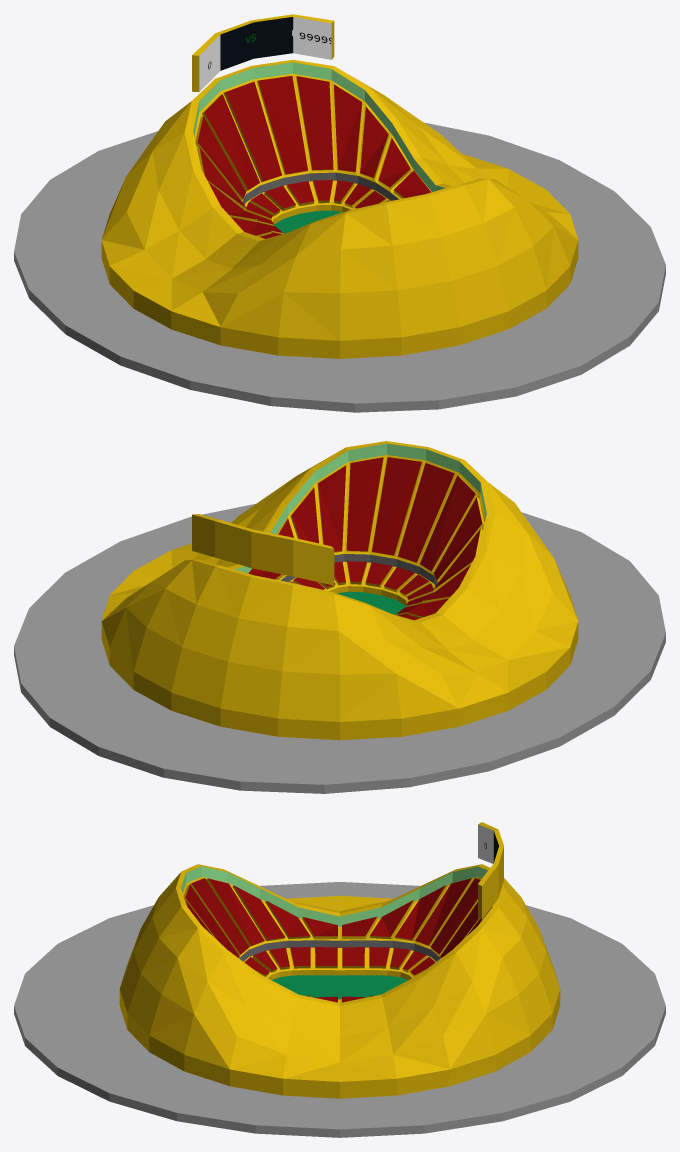
Rendered from stadium.dae.
3 renders of one model, top to bottom at view 1: azimuth 30°, elevation 25°; view 2: azimuth 150°, elevation 25°; view 3: azimuth 270°, elevation 25°, orthographic. The views are drawn at different scales.
Visible parts, largest first — view 1: stadium, scoreboard; view 2: stadium, scoreboard; view 3: stadium, scoreboard.
Boxes of the visible parts, <box> form: stadium: <box>14,59,665,412</box>; scoreboard: <box>192,14,334,91</box>; stadium: <box>14,441,665,793</box>; scoreboard: <box>192,514,334,585</box>; stadium: <box>14,864,665,1137</box>; scoreboard: <box>478,822,503,919</box>.
Size of the model in its own units: 77.02 by 85.71 by 24.38.
Materials: 7 (1 with a texture image).
